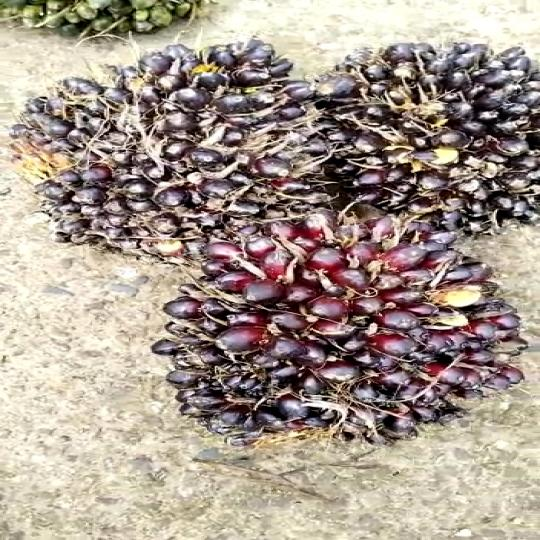mentah: (184, 209, 530, 467), (24, 35, 352, 256), (319, 19, 540, 250)
